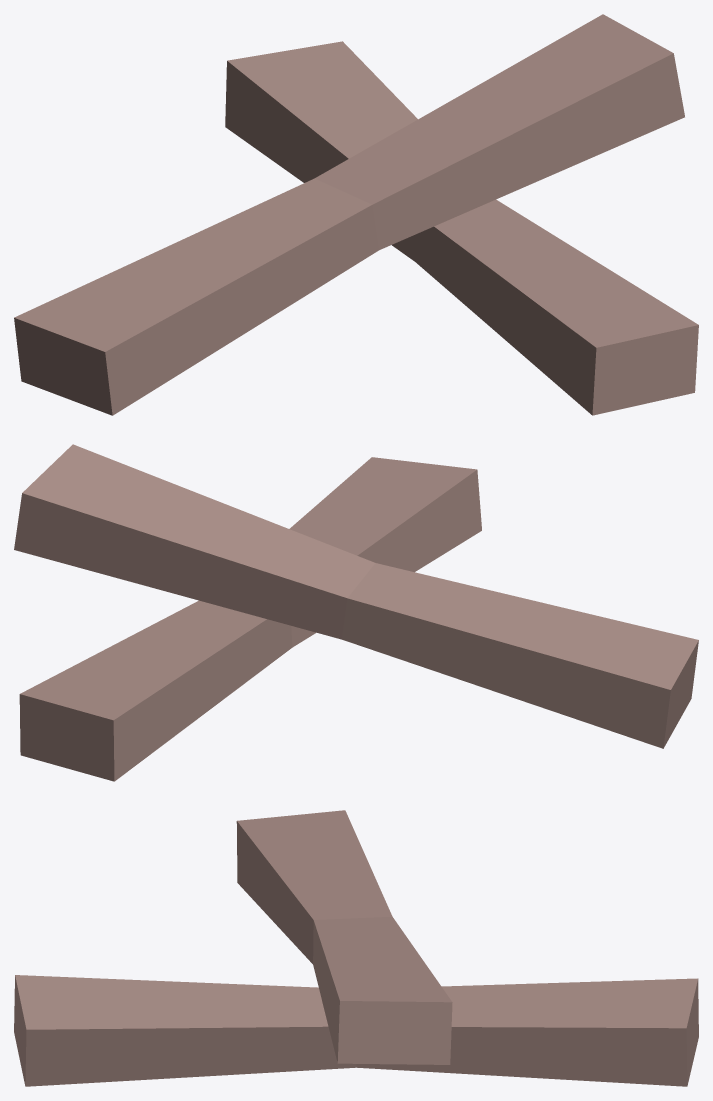
The model's file is porkRibBone02.fbx.
3 renders of one model, top to bottom at view 1: azimuth 30°, elevation 25°; view 2: azimuth 150°, elevation 25°; view 3: azimuth 270°, elevation 25°, orthographic. The views are drawn at different scales.
Visible parts, largest first — view 1: porkRibBone02; view 2: porkRibBone02; view 3: porkRibBone02.
Part boxes in pixels (x1,y1,x2,y2): porkRibBone02: (14,14,698,415); porkRibBone02: (14,444,698,781); porkRibBone02: (14,810,698,1086).
Bounding box in the file's own units: 19.47 × 4.81 × 19.44.
Materials: 1 (1 with a texture image).
